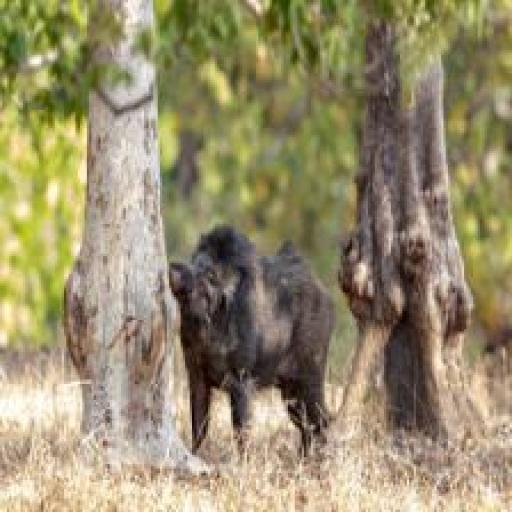Pig: (172, 222, 340, 444)
